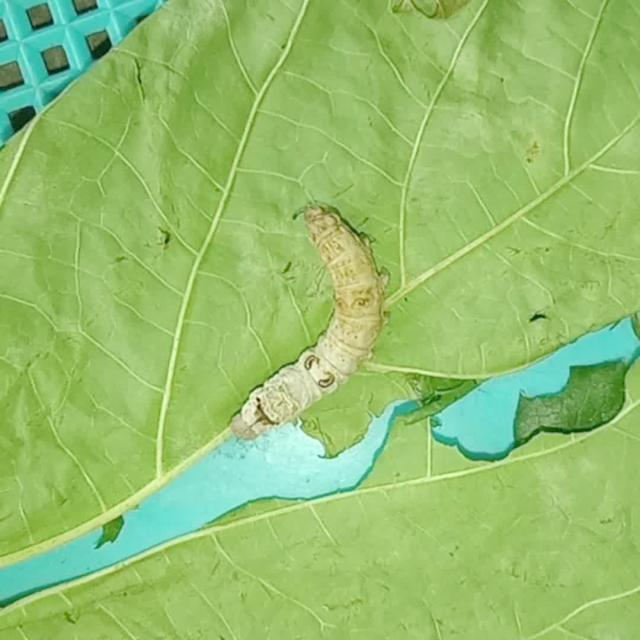Grasserie: (220, 198, 397, 446)
